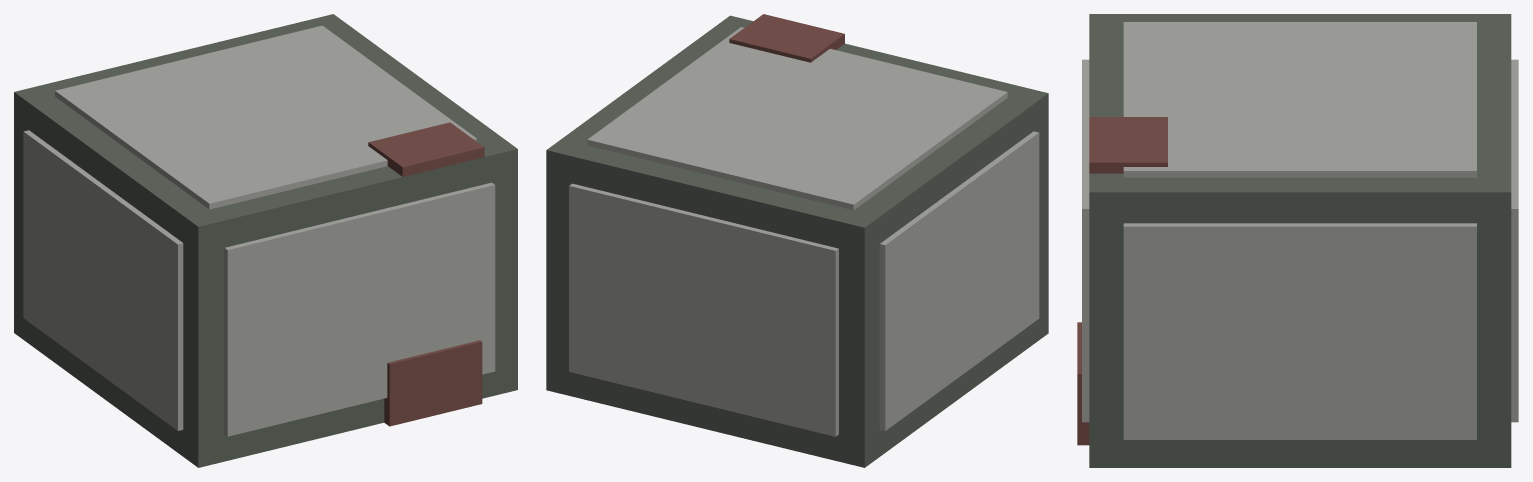
File: oc_metal_crate.obj
3 views of the same model, side by side, from view 1: azimuth 30°, elevation 25°; view 2: azimuth 150°, elevation 25°; view 3: azimuth 270°, elevation 25° (orthographic). The views are drawn at different scales.
Parts seen in each view (by area): view 1: oc_metal_crate_0, oc_metal_crate_2, oc_metal_crate_1, oc_metal_crate_4, oc_metal_crate_7, oc_metal_crate_6; view 2: oc_metal_crate_0, oc_metal_crate_3, oc_metal_crate_1, oc_metal_crate_4, oc_metal_crate_6; view 3: oc_metal_crate_5, oc_metal_crate_0, oc_metal_crate_1, oc_metal_crate_6, oc_metal_crate_3, oc_metal_crate_2, oc_metal_crate_7.
Part boxes in pixels (left/top/right/bottom): oc_metal_crate_0: left=14, top=14, right=517, bottom=467; oc_metal_crate_2: left=224, top=182, right=495, bottom=436; oc_metal_crate_1: left=55, top=25, right=476, bottom=209; oc_metal_crate_4: left=23, top=130, right=183, bottom=430; oc_metal_crate_7: left=384, top=340, right=482, bottom=426; oc_metal_crate_6: left=368, top=122, right=484, bottom=176; oc_metal_crate_0: left=546, top=15, right=1048, bottom=467; oc_metal_crate_3: left=569, top=183, right=838, bottom=436; oc_metal_crate_1: left=587, top=27, right=1007, bottom=210; oc_metal_crate_4: left=879, top=131, right=1039, bottom=430; oc_metal_crate_6: left=729, top=14, right=844, bottom=62; oc_metal_crate_5: left=1123, top=223, right=1476, bottom=439; oc_metal_crate_0: left=1089, top=14, right=1511, bottom=467; oc_metal_crate_1: left=1123, top=22, right=1476, bottom=177; oc_metal_crate_6: left=1089, top=117, right=1167, bottom=173; oc_metal_crate_3: left=1511, top=59, right=1518, bottom=422; oc_metal_crate_2: left=1082, top=59, right=1089, bottom=422; oc_metal_crate_7: left=1077, top=322, right=1089, bottom=445.
Bounding box in the file's own units: 0.89 × 0.645 × 0.9.
